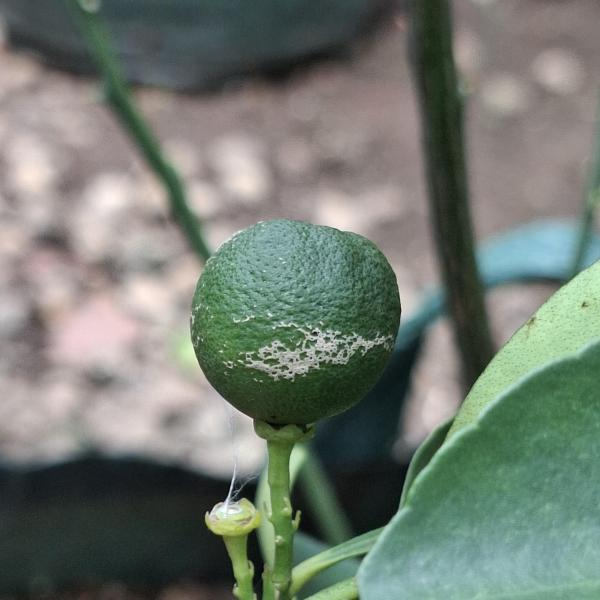Scab: (169, 211, 411, 431)
